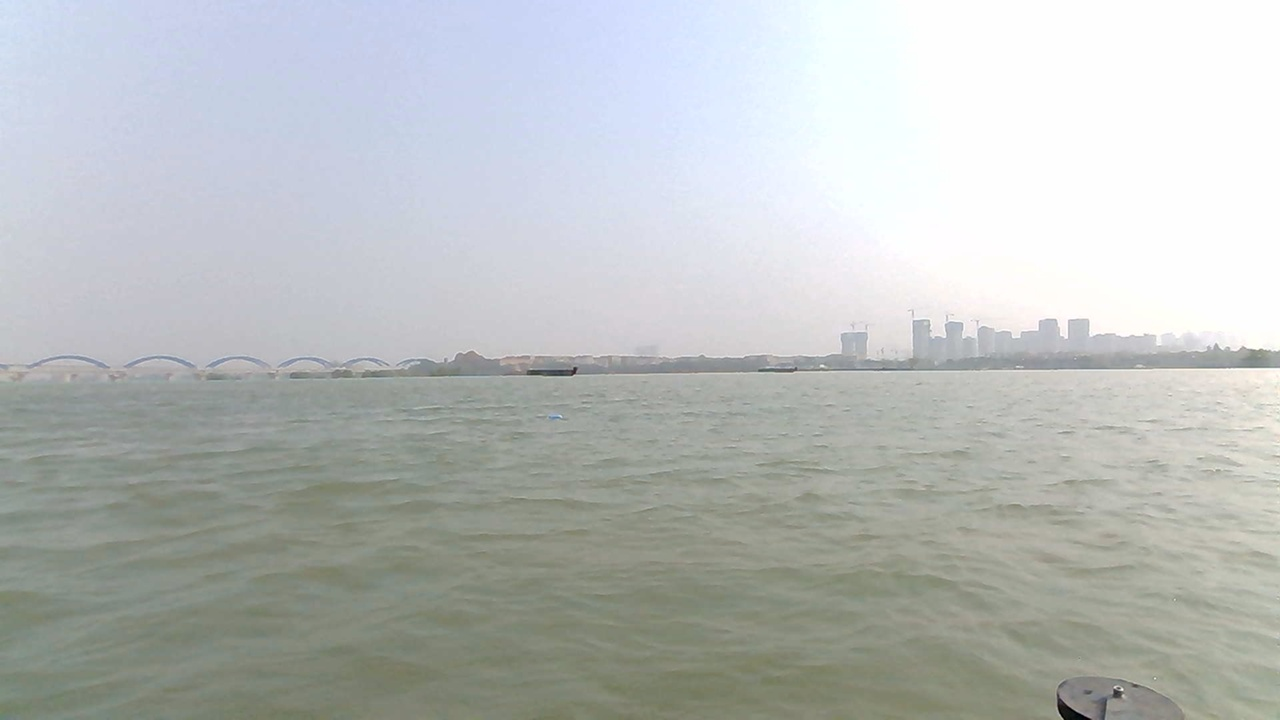bottle: (542, 411, 570, 424)
